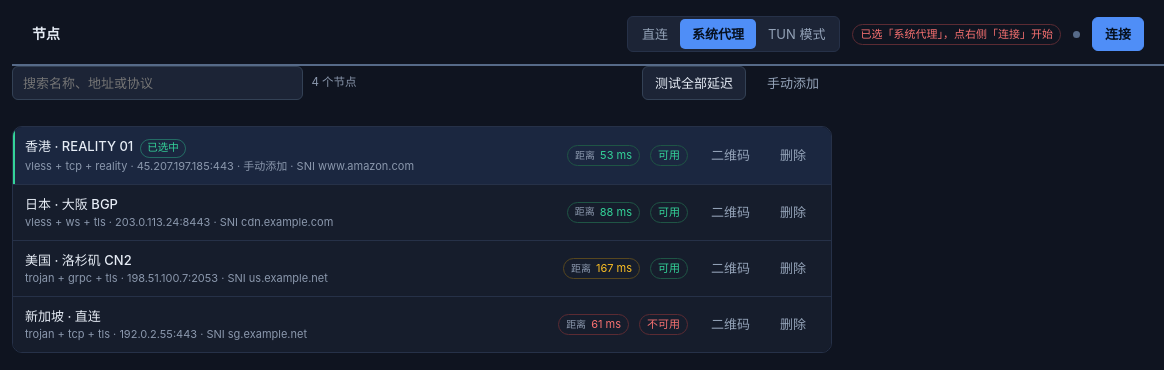
Scenario: 忙碌时顶栏按钮必须禁用 + 有可见反馈 › 测延迟进行中：「连接」与模式按钮 disabled，并出现 role=status 的「正在测试延迟…」
This screenshot has width=1164, height=370.
Check: the button "连接" is enabled, box x1=1092 y1=17 x2=1144 y2=51
Click the button "测试全部延迟" at (694,83), box x1=642 y1=66 x2=746 y2=100
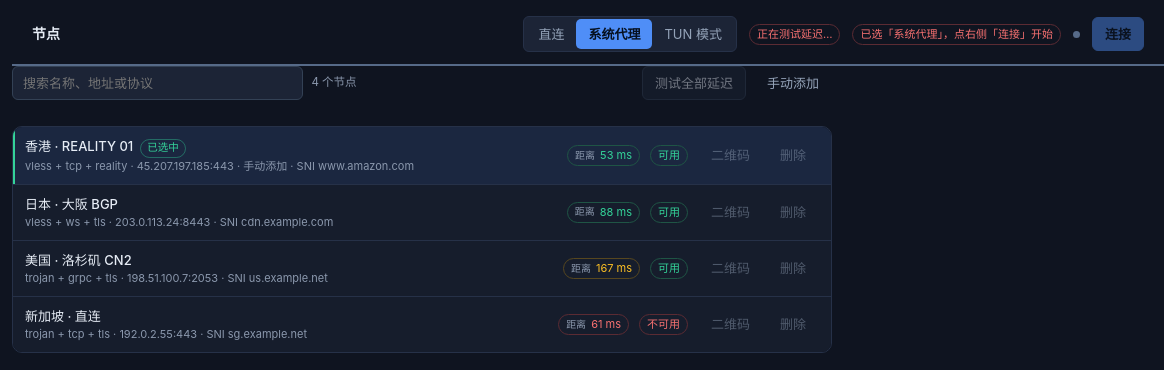
Check: the button "连接" is disabled, box x1=1092 y1=17 x2=1144 y2=51
Check: the button "TUN 模式" is disabled, box x1=652 y1=19 x2=734 y2=49
